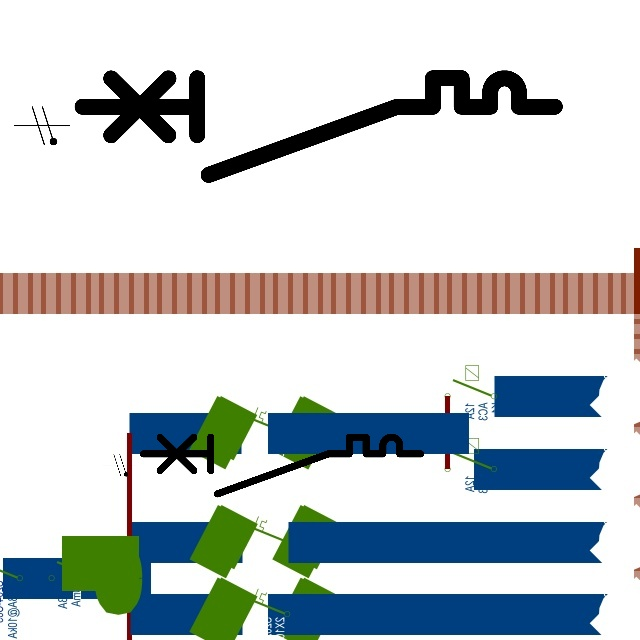interruptor_termomagnetico: (70, 66, 567, 187), (136, 430, 428, 501)
